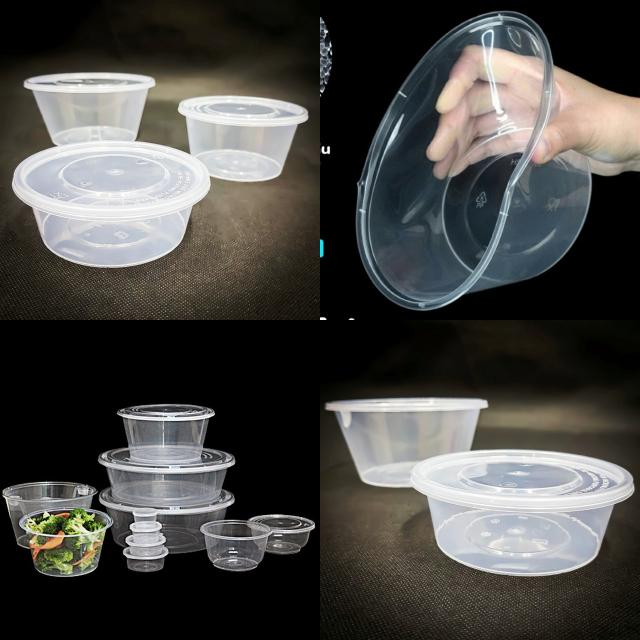Single-Use-Plastic: (356, 12, 590, 309), (411, 450, 634, 576), (12, 141, 210, 268), (325, 398, 488, 488), (179, 95, 309, 181), (24, 72, 155, 145), (99, 448, 235, 506), (20, 508, 112, 577), (118, 404, 215, 464), (200, 520, 271, 571), (250, 515, 315, 553)
